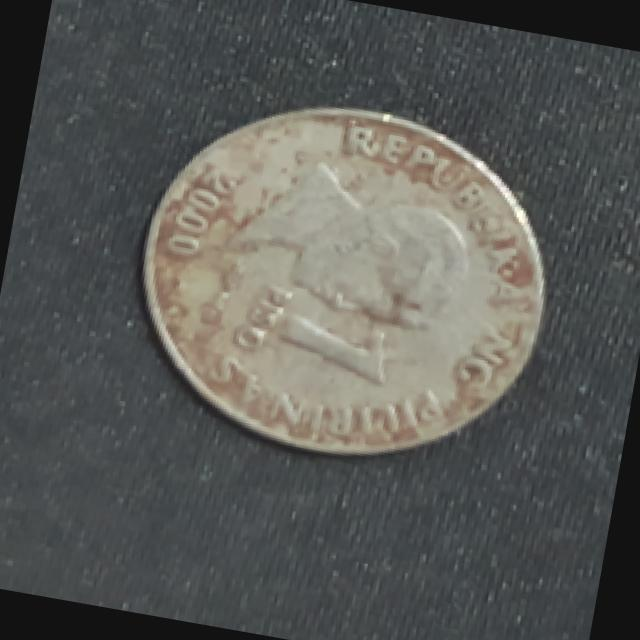1_peso: (142, 108, 541, 452)
